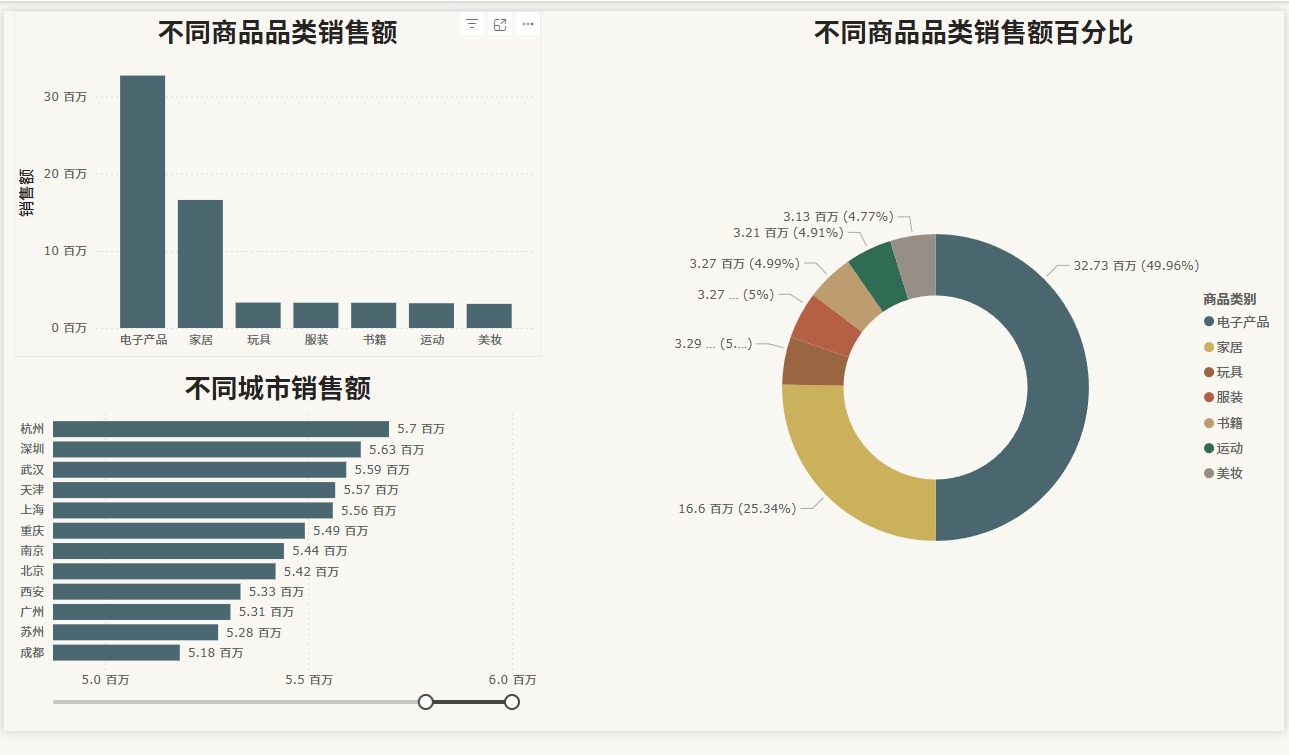

Layout of this report page (visuals, bound fields, positions):
{"tool":"powerbi","page":{"name":"销量品类结构","canvas":[1280,720],"ordinal":1},"visuals":[{"type":"lineClusteredColumnComboChart","title":"不同商品品类销售额","fields":{"Category":["category_summary.商品类别"],"Y":["Sum(category_summary.gmv)"]},"box":[9.7,0,527.2,346.3],"z":0},{"type":"donutChart","title":"不同商品品类销售额百分比","fields":{"Y":["Sum(category_summary.gmv)"],"Category":["category_summary.商品类别"]},"box":[659.5,0,620.5,719.8],"z":1000},{"type":"clusteredBarChart","title":"不同城市销售额","fields":{"Category":["city_summary.用户城市"],"Y":["Sum(city_summary.gmv)"]},"box":[10,356,527,346],"z":2000}]}

Visuals, with their boxes on the page's 1280x720 design canvas (x1, y1, x2, y2). These are canvas units, not pixel positions in the 1289x755 screenshot, which may show the page scaled, cropped or inside an application window:
"不同商品品类销售额" lineClusteredColumnComboChart: select_region(10, 0, 537, 346)
"不同商品品类销售额百分比" donutChart: select_region(660, 0, 1280, 720)
"不同城市销售额" clusteredBarChart: select_region(10, 356, 537, 702)
